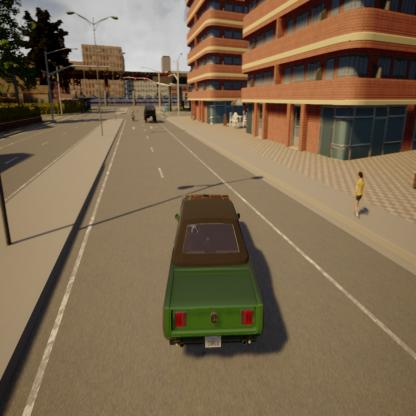Cars: (153, 186, 268, 362), (143, 103, 157, 125)
Pedestrian: (348, 164, 370, 228)
